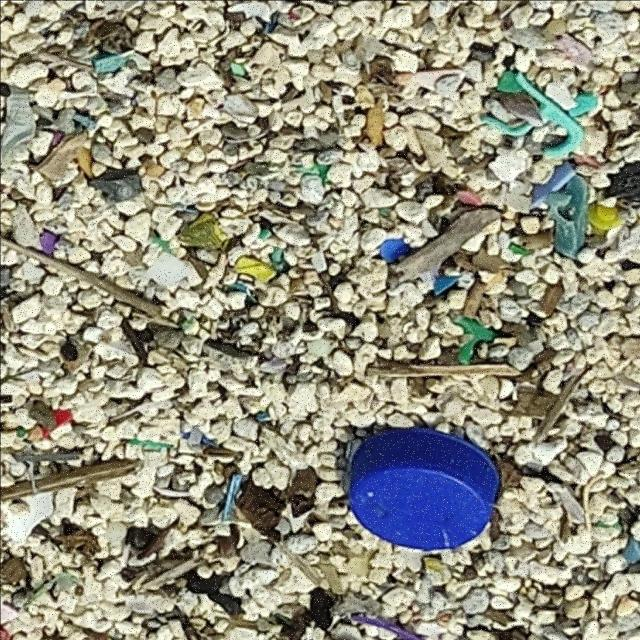plastic_waste: (347, 427, 503, 551)
